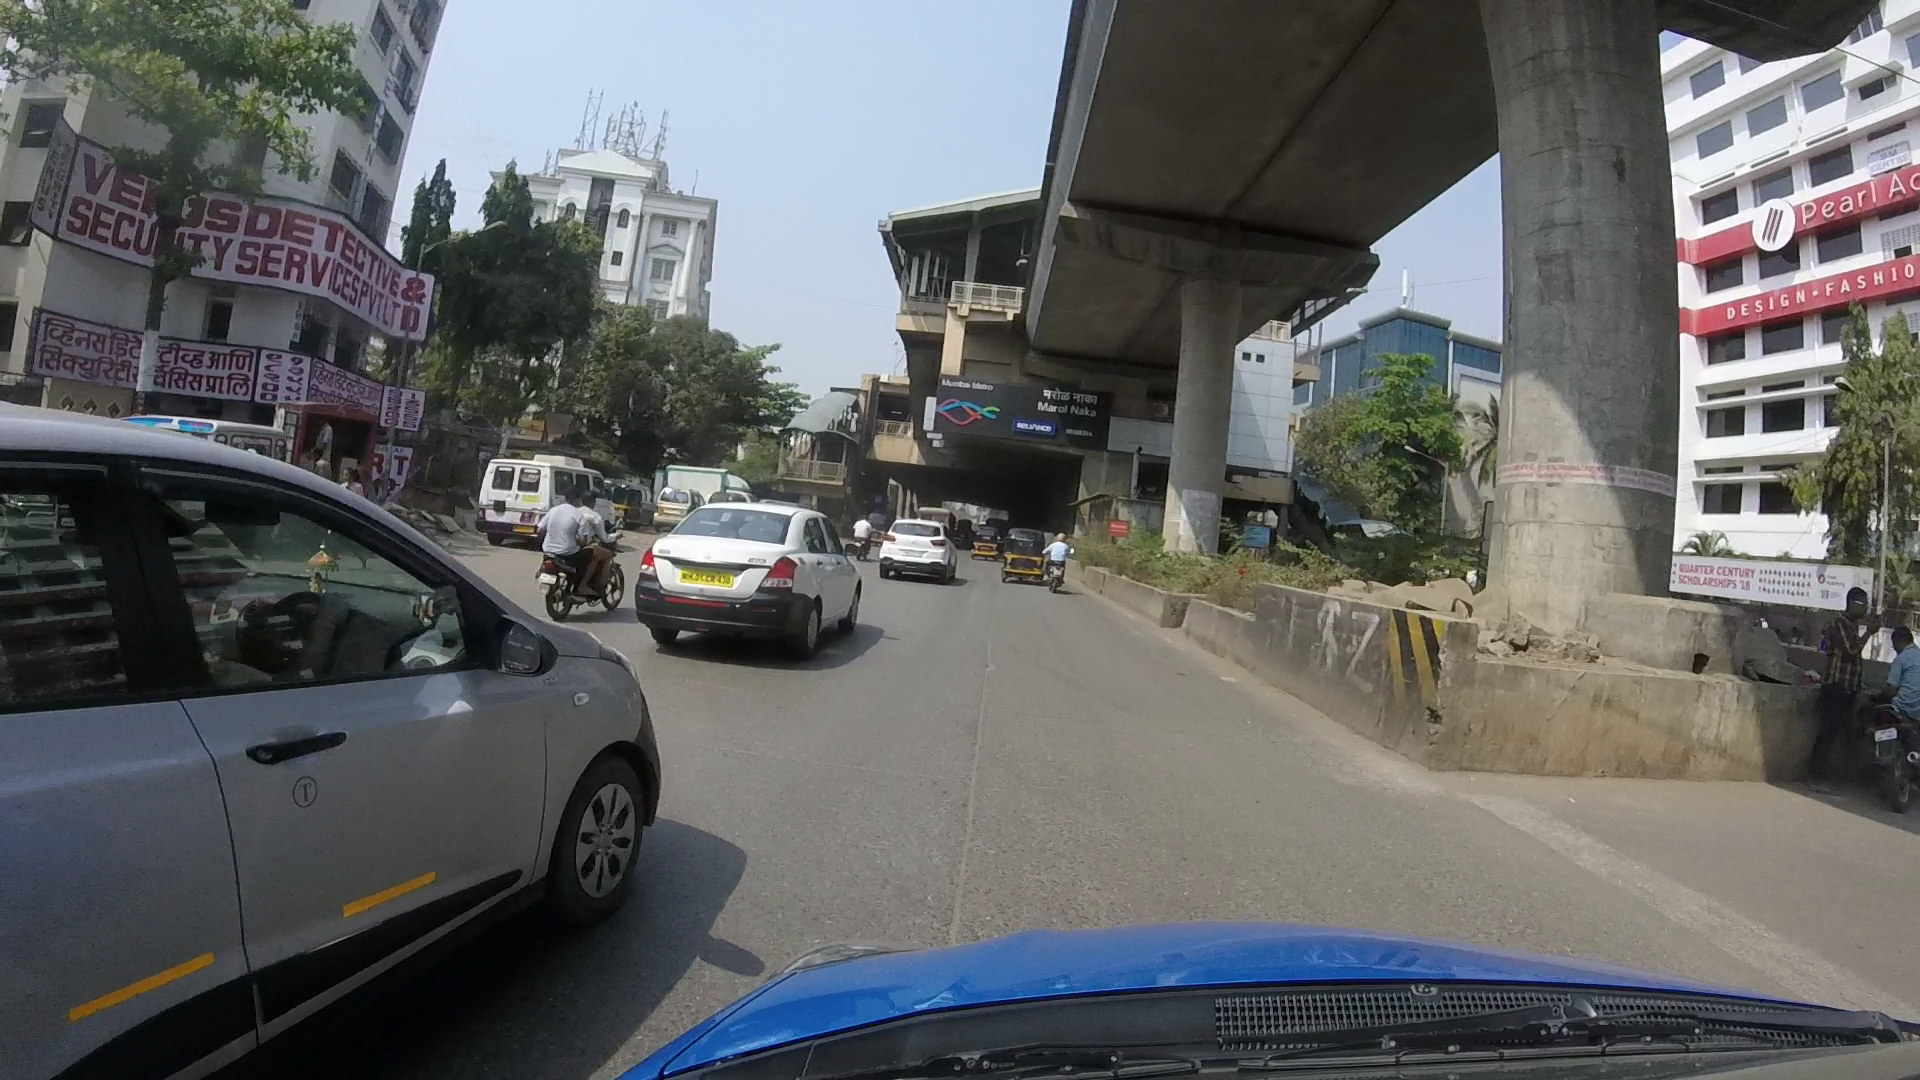car: (16, 415, 649, 1050), (644, 495, 866, 674), (465, 451, 613, 549), (878, 513, 945, 592)
